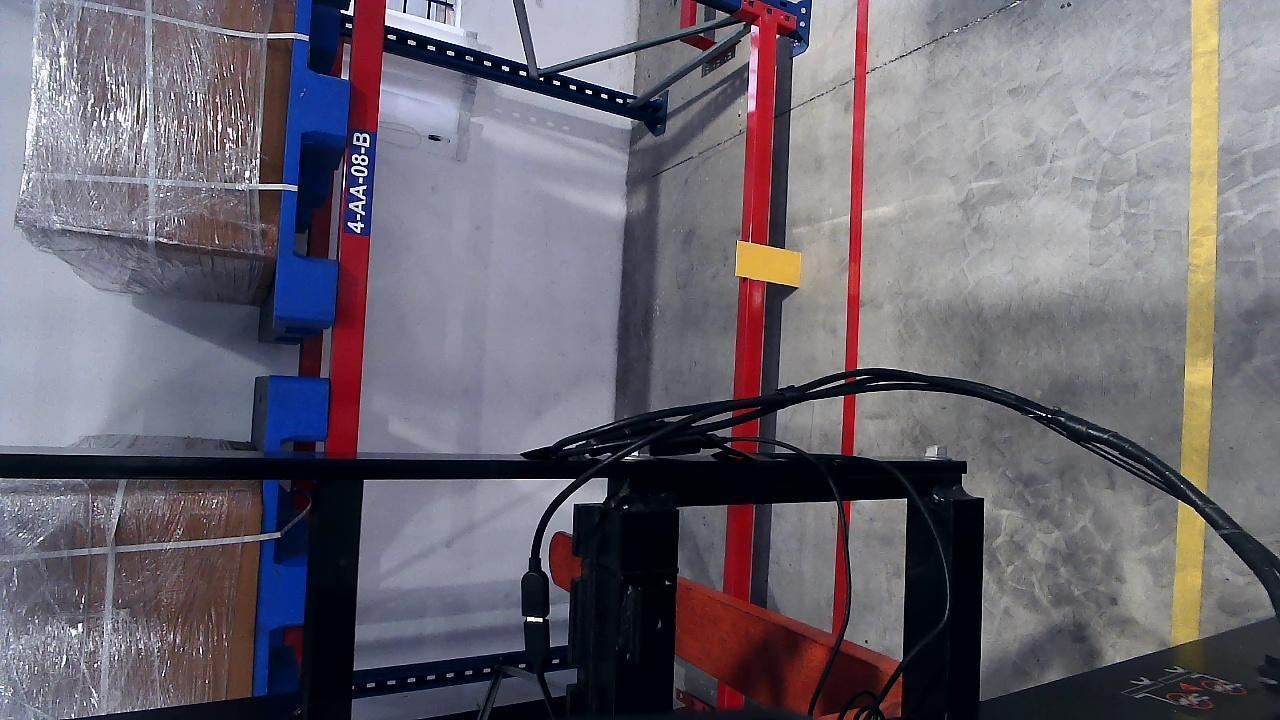red_line: (843, 4, 868, 371)
yellow_line: (1177, 5, 1222, 629)
